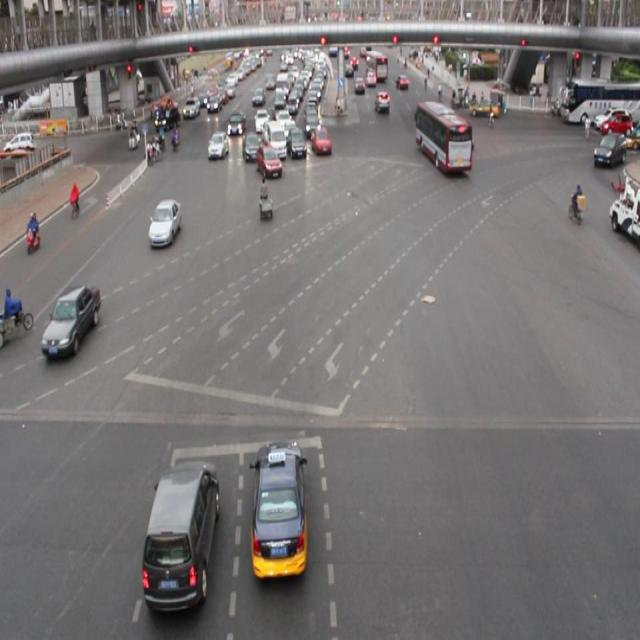car: (249, 438, 309, 581), (43, 284, 101, 356), (148, 199, 181, 248), (256, 145, 281, 179), (309, 123, 332, 159), (287, 127, 308, 162), (207, 131, 228, 162), (242, 130, 260, 160), (227, 111, 245, 136)
truck: (142, 458, 218, 612), (262, 119, 286, 160)
van: (416, 101, 470, 169)
